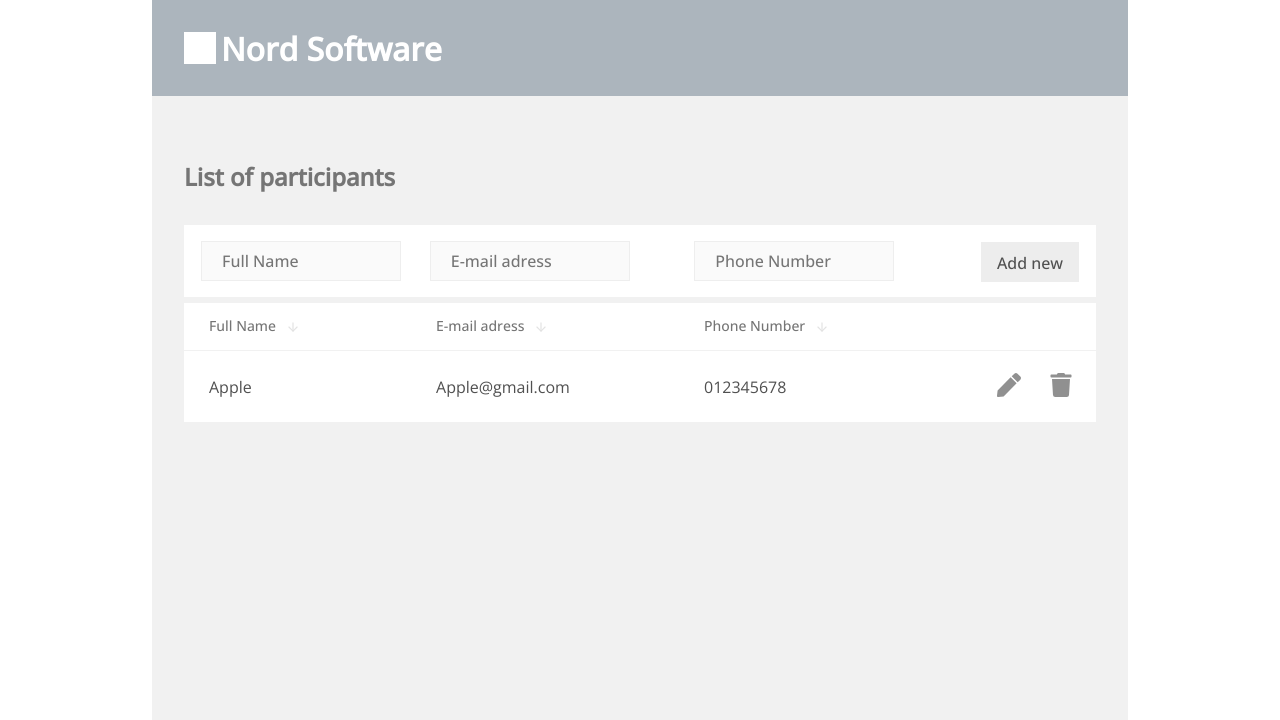
Scenario: Participant app › should show error message when submit with empty field
Type "Apple" into the field named "name" at (301, 261), box [201, 241, 401, 281]
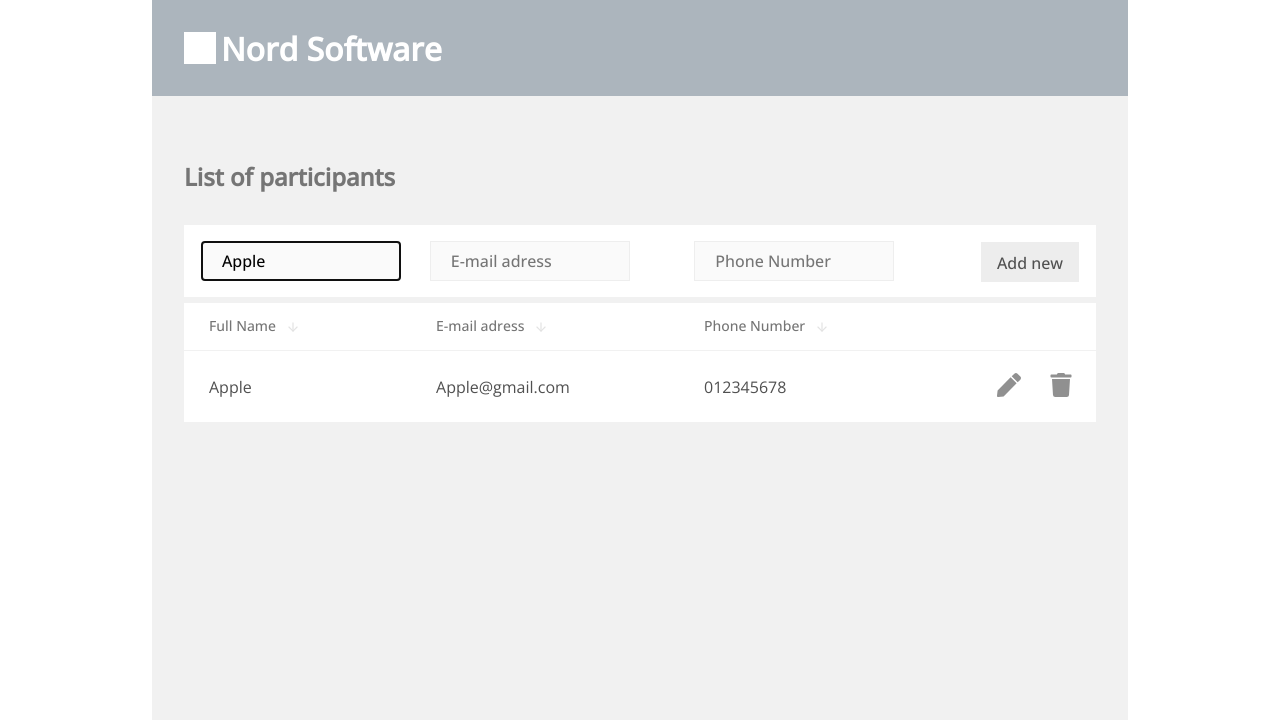
Type "012345678" into the field named "phone" at (794, 261), box [694, 241, 894, 281]
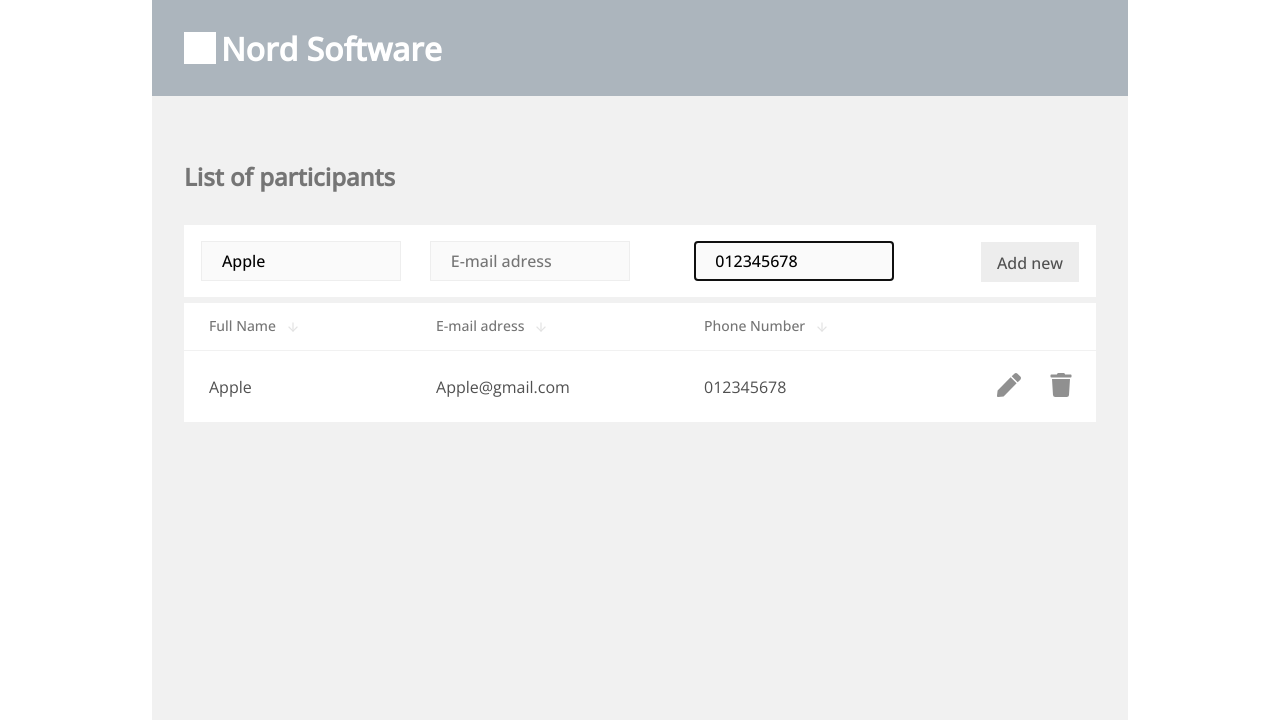
Click the button "Add new" at (1030, 262), box [981, 242, 1079, 282]
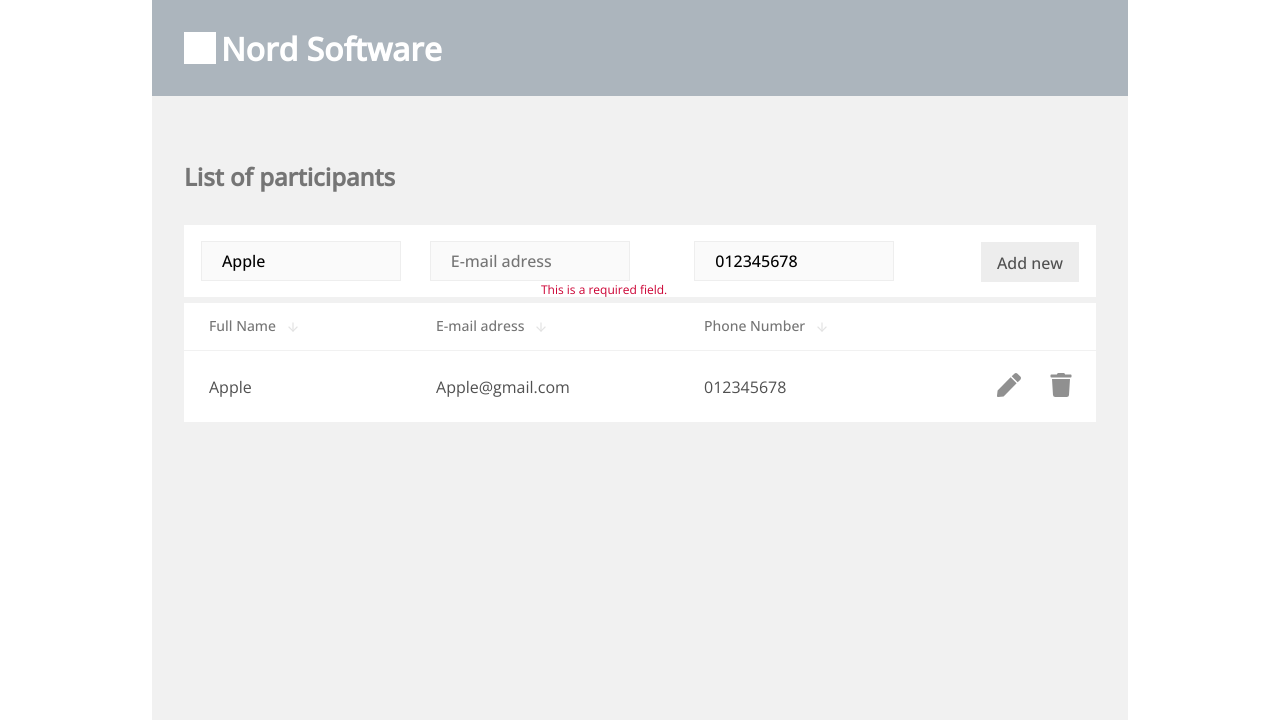
Now the text "This is a required field." is shown, box [541, 280, 667, 297]
